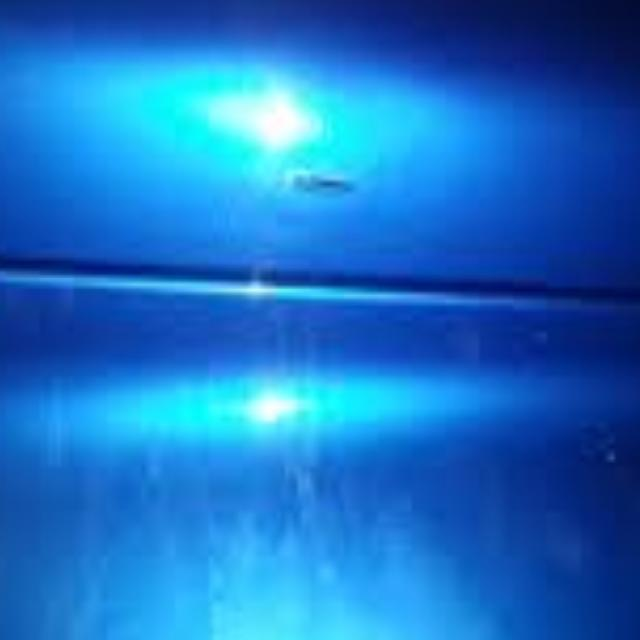dents: (262, 150, 396, 232)
